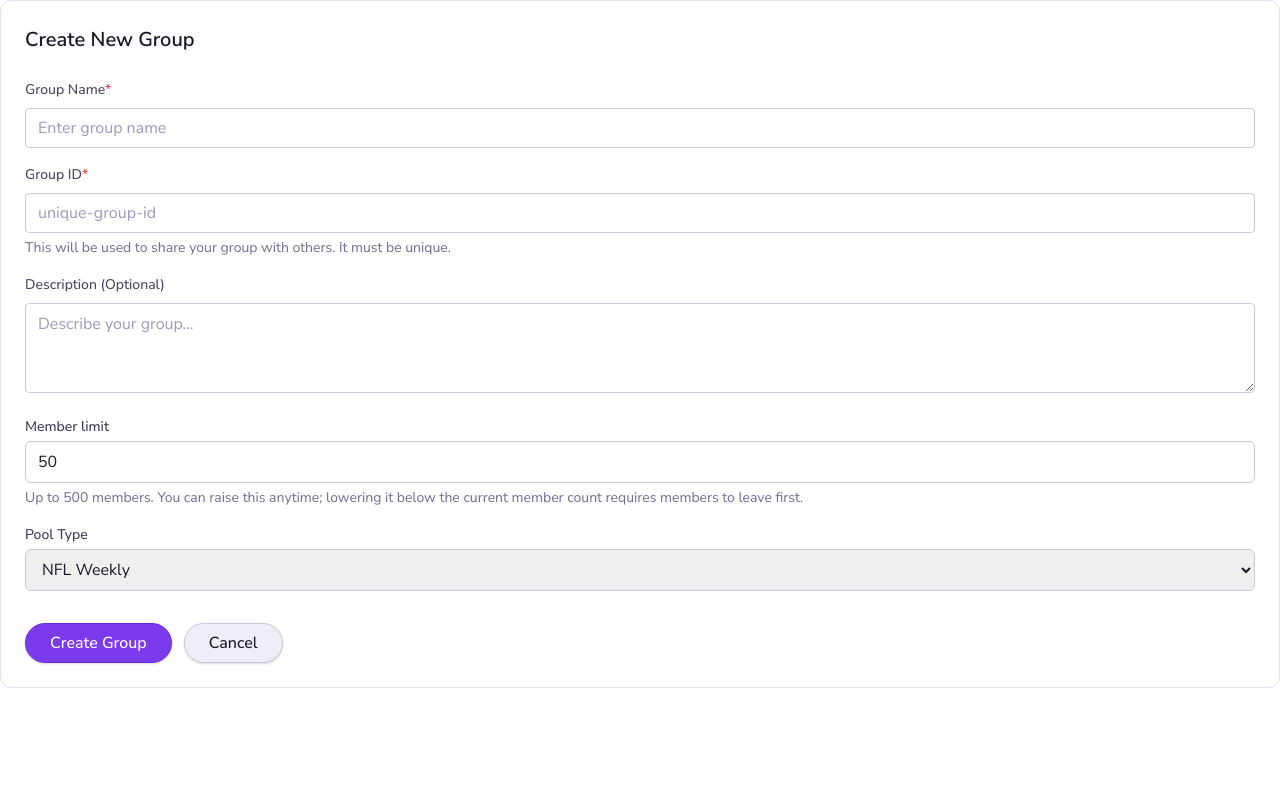
Test: CreateGroupForm › validation › shows error when name is shorter than 3 characters
The image size is (1280, 800).
In the field labelled "Group Name*": (640, 128) [25,108,1255,148], type "ab"
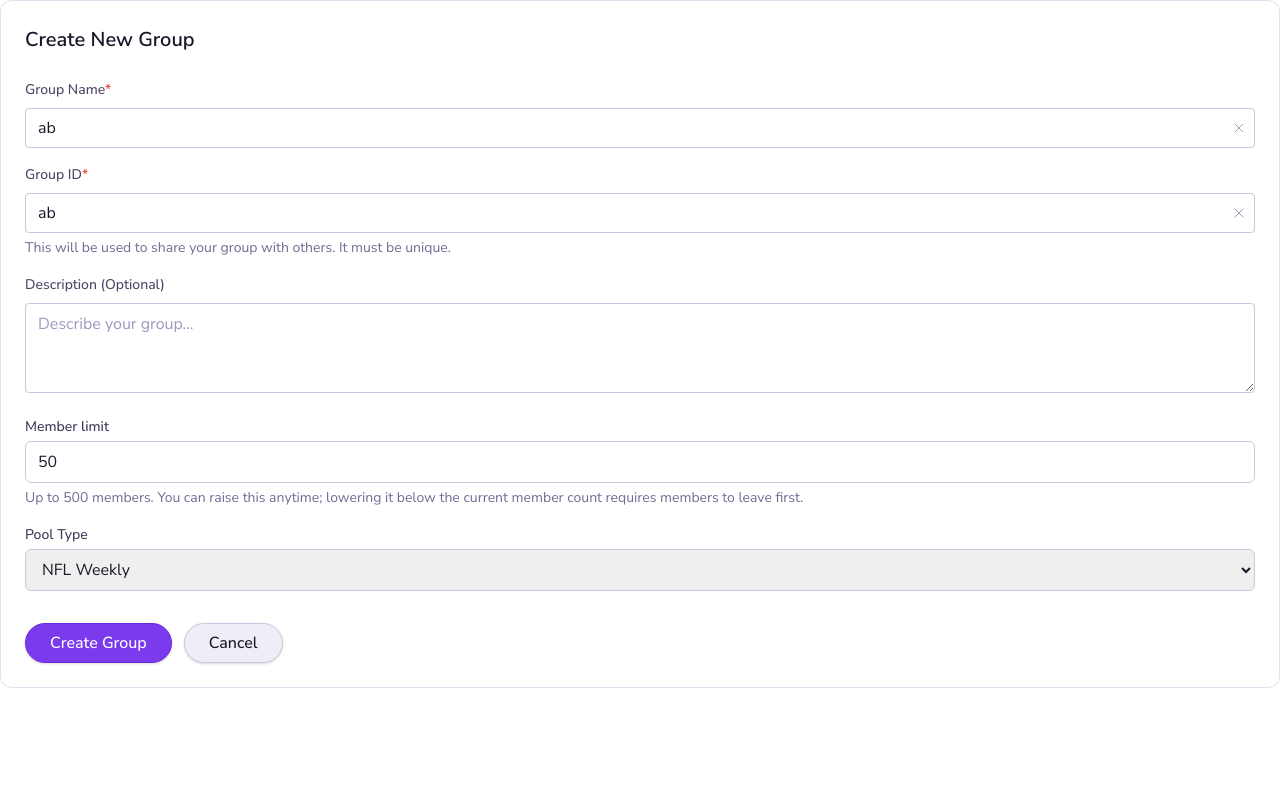
Submit the form named "Create Group"
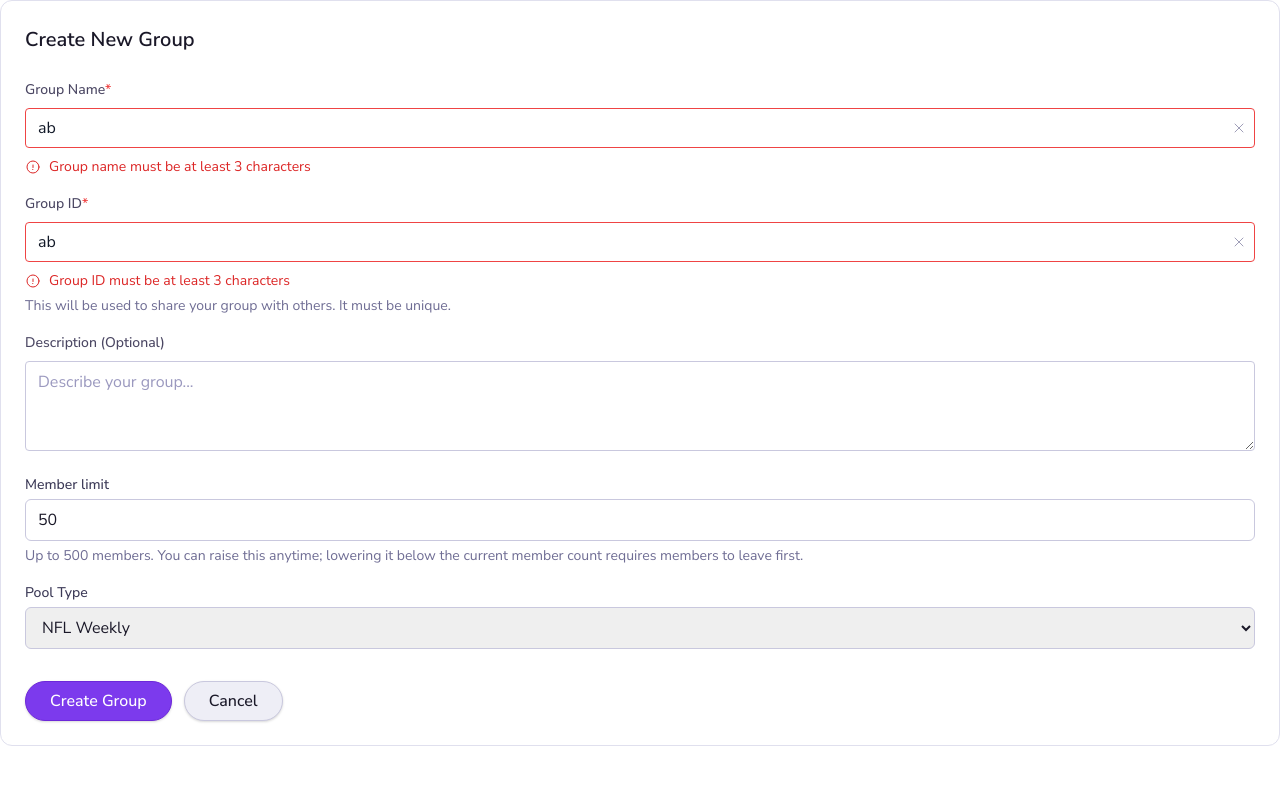
Expected: the text "Group name must be at least 3 characters" is shown, [49,156,311,177]
